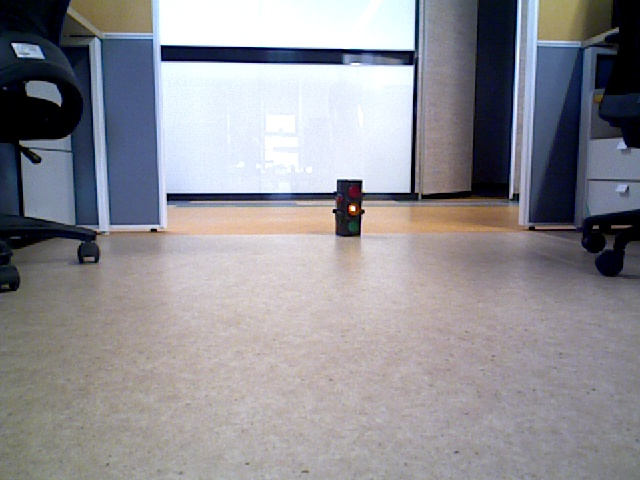yellow: (336, 178, 360, 236)
